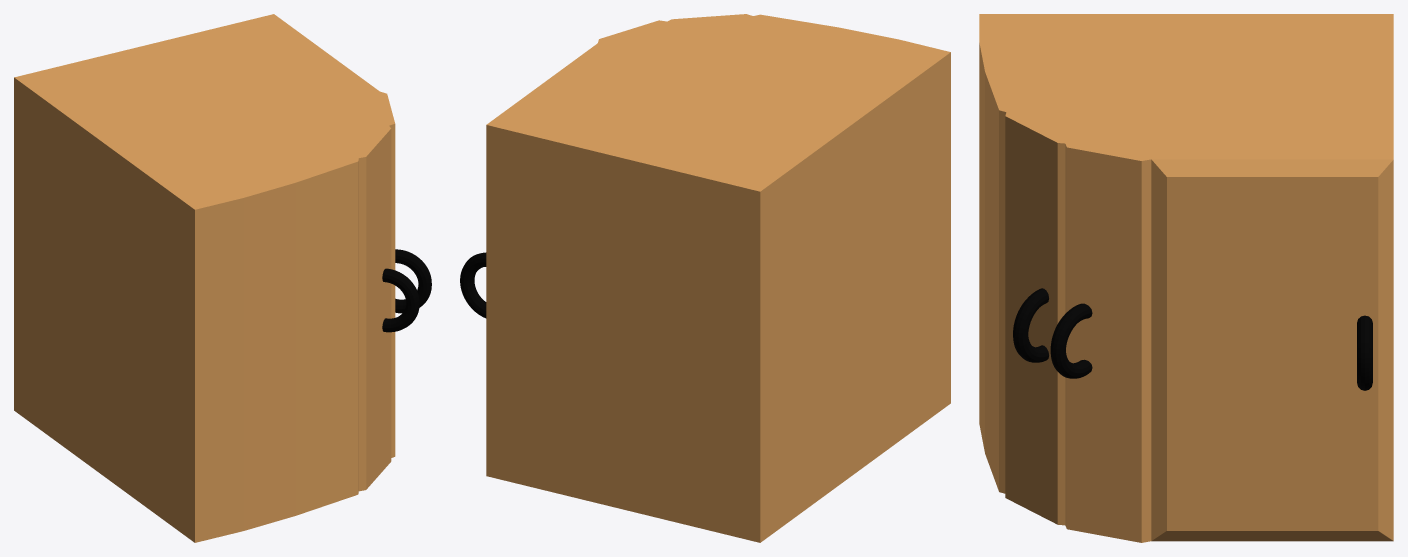
The model's file is CornerCupboardV.fbx.
The picture shows the model from 3 angles, left to right: view 1: azimuth 30°, elevation 25°; view 2: azimuth 150°, elevation 25°; view 3: azimuth 270°, elevation 25°; orthographic projection. The views are drawn at different scales.
Visible parts, largest first — view 1: Curved Up Cupboard, Torus.002, Torus.001; view 2: Curved Up Cupboard, Torus.007; view 3: Curved Up Cupboard, Torus.001, Torus.002, Torus.007.
Boxes of the visible parts, x1,y1,x2,y2 form: Curved Up Cupboard: (14,14,395,542); Torus.002: (382,268,419,332); Torus.001: (395,249,431,313); Curved Up Cupboard: (486,14,950,542); Torus.007: (460,252,486,318); Curved Up Cupboard: (979,14,1393,542); Torus.001: (1050,303,1092,378); Torus.002: (1013,288,1048,362); Torus.007: (1357,315,1372,390).
Size of the model in its own units: 128 by 136 by 138.
